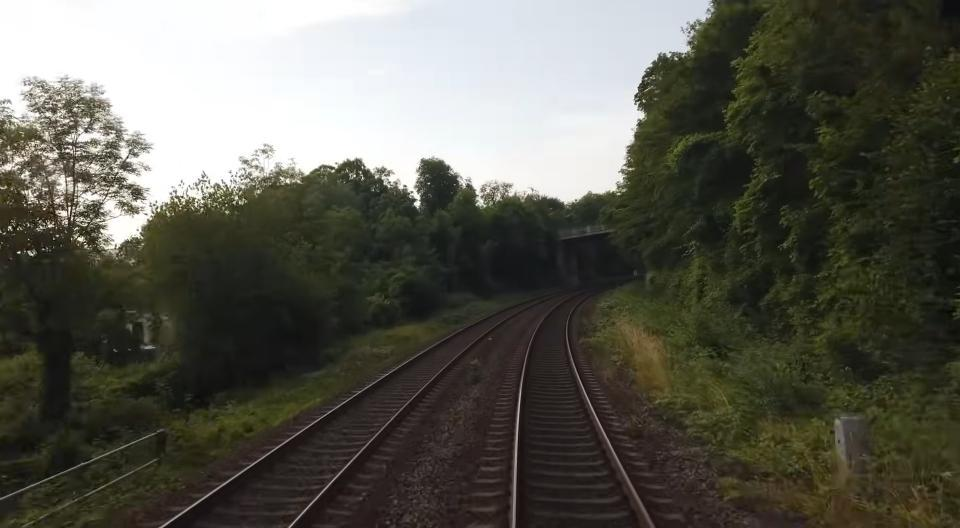Plant: (37, 295, 527, 528), (584, 281, 960, 528)
